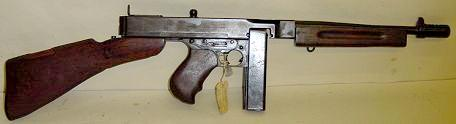rifle: (3, 20, 449, 114)
